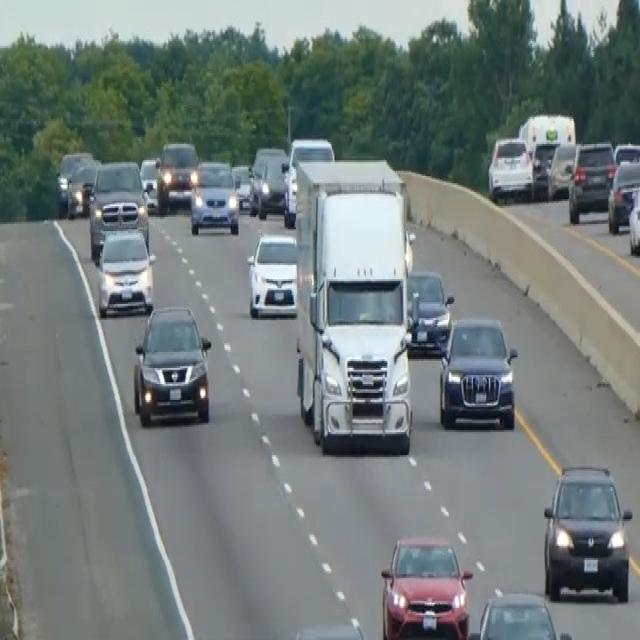car: (542, 460, 632, 602), (132, 302, 212, 427), (379, 532, 473, 638), (438, 313, 518, 430), (87, 158, 149, 258), (95, 224, 155, 316), (467, 588, 573, 638), (283, 135, 335, 226), (246, 230, 298, 318), (405, 266, 454, 356), (567, 139, 617, 222), (189, 156, 240, 234), (487, 133, 534, 203), (155, 138, 198, 210), (607, 156, 639, 233), (55, 150, 92, 212), (256, 153, 290, 217), (65, 158, 99, 219), (546, 141, 577, 199), (531, 139, 558, 197), (288, 620, 368, 638), (138, 156, 160, 210), (231, 162, 253, 210), (627, 182, 639, 254), (613, 140, 639, 166)
lorry: (293, 157, 414, 455)
